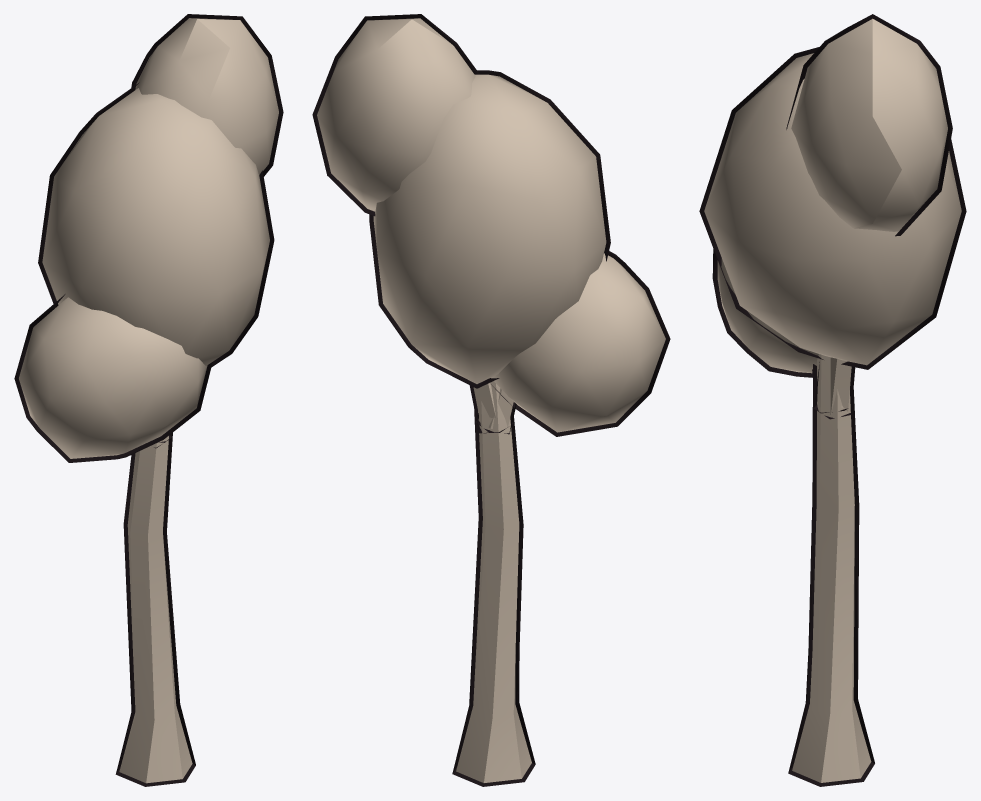
Rendered from SM_Tree_05.fbx.
The picture shows the model from 3 angles, left to right: view 1: azimuth 30°, elevation 25°; view 2: azimuth 150°, elevation 25°; view 3: azimuth 270°, elevation 25°; orthographic projection. The views are drawn at different scales.
Parts seen in each view (by area): view 1: SM_Tree_05; view 2: SM_Tree_05; view 3: SM_Tree_05.
Boxes of the visible parts, x1,y1,x2,y2 form: SM_Tree_05: [14, 14, 283, 786]; SM_Tree_05: [312, 14, 670, 786]; SM_Tree_05: [699, 14, 966, 786].
Bounding box in the file's own units: 2.59 × 6.34 × 1.95.
